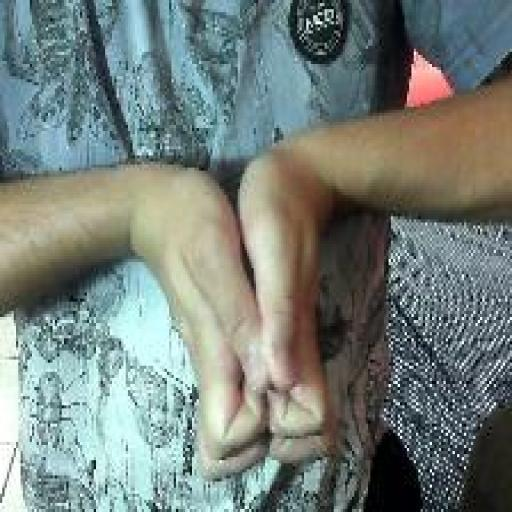I -boar-: (146, 149, 338, 488)
